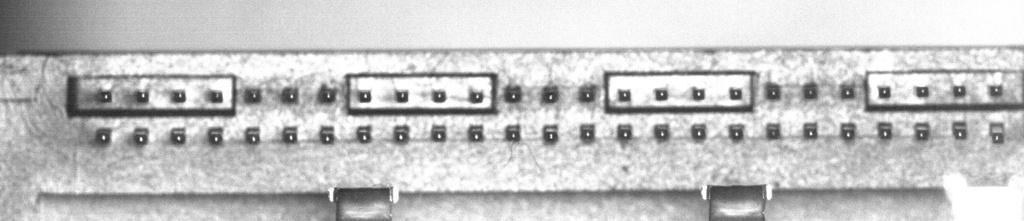pin_ok: (318, 84, 338, 102), (989, 122, 1005, 143), (541, 86, 559, 103), (542, 125, 559, 143), (952, 120, 968, 139), (914, 122, 930, 141), (616, 123, 633, 140), (393, 125, 410, 142), (579, 85, 596, 102), (505, 85, 522, 102), (728, 123, 744, 141), (468, 124, 484, 142), (319, 125, 335, 143), (356, 125, 372, 143), (654, 123, 670, 140), (765, 83, 781, 100), (430, 125, 447, 141), (282, 126, 298, 143), (281, 86, 298, 102), (244, 87, 261, 103), (244, 127, 260, 144), (170, 127, 186, 144), (133, 127, 149, 144), (95, 128, 112, 144), (505, 123, 520, 141), (877, 121, 892, 139), (840, 83, 856, 99), (691, 124, 707, 140), (580, 124, 595, 141), (803, 122, 818, 139), (841, 123, 856, 140), (208, 127, 223, 144), (803, 83, 818, 99), (766, 122, 780, 139), (469, 88, 484, 103), (952, 84, 967, 98), (394, 88, 409, 102), (654, 87, 669, 101), (988, 83, 1003, 97), (172, 89, 186, 103), (209, 89, 223, 103), (617, 88, 631, 102), (135, 88, 149, 102), (98, 88, 112, 102), (729, 86, 743, 100), (432, 89, 446, 102), (358, 89, 372, 102), (915, 85, 929, 98), (877, 85, 891, 98), (692, 87, 705, 100)
